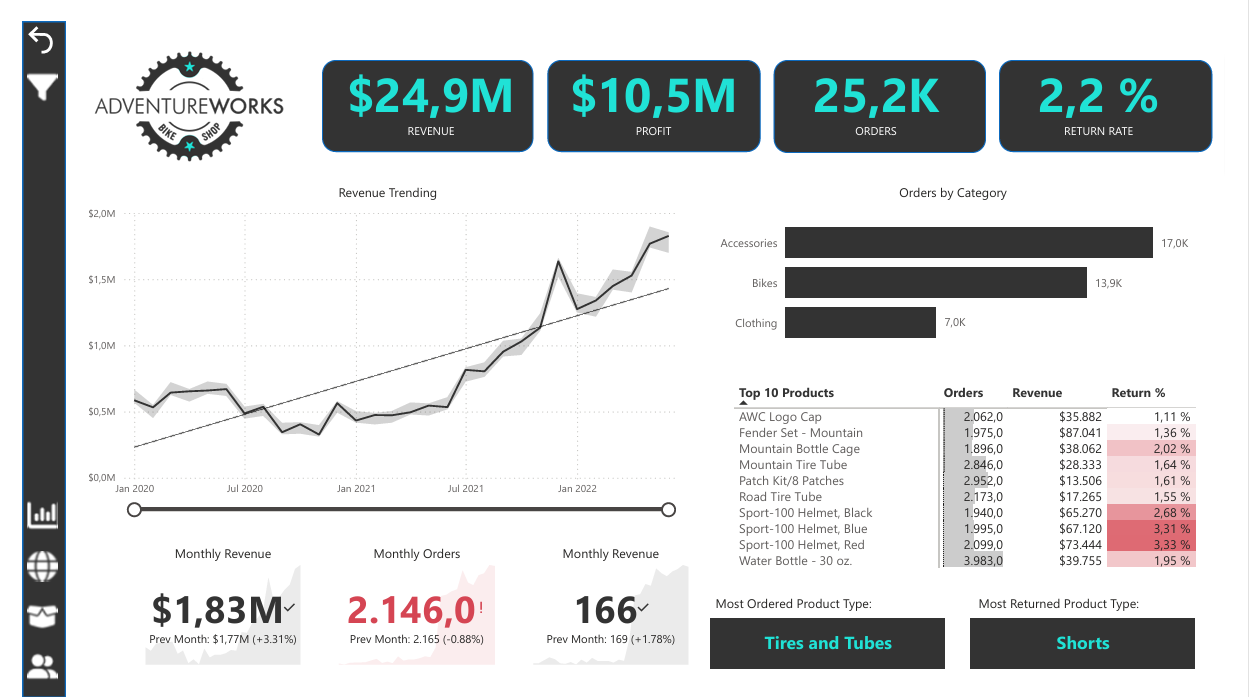

This screenshot's page, from the dashboard's own definition file:
{"tool":"powerbi","page":{"name":"Exec Dashboard","canvas":[1280,720],"ordinal":0},"visuals":[{"type":"card","fields":{"Values":["Measure Table.Total Profit"]},"box":[538.2,19,268,128],"z":0,"group":"g2"},{"type":"image","title":"AW Logo","box":[36.5,24.3,281.7,132.2],"z":0},{"type":"group","id":"g1","title":"KPI Backgrounds","box":[319.1,41,948.3,99.2],"z":0,"group":"g3"},{"type":"shape","title":"Shape","box":[319.1,41,225.4,98],"z":0,"group":"g1"},{"type":"actionButton","box":[1.4,505.7,44.3,40],"z":0,"group":"g4"},{"type":"shape","title":"Left Nav Background","box":[0,0,46.2,720],"z":1000},{"type":"group","id":"g2","title":"KPI Values","box":[301.3,19,978.7,128],"z":1000,"group":"g3"},{"type":"card","fields":{"Values":["Measure Table.Return Rate"]},"box":[1012,19,268,128],"z":1000,"group":"g2"},{"type":"shape","box":[800.1,41,226,99.2],"z":1000,"group":"g1"},{"type":"actionButton","box":[1.4,560,44.3,40],"z":1000,"group":"g4"},{"type":"group","id":"g3","title":"KPIs","box":[301.3,19,978.7,128],"z":2000},{"type":"card","fields":{"Values":["Measure Table.Total Orders"]},"box":[775.1,19,268,128],"z":2000,"group":"g2"},{"type":"shape","box":[1040.6,41,226.8,98],"z":2000,"group":"g1"},{"type":"actionButton","box":[1.4,613.3,44.3,40],"z":2000,"group":"g4"},{"type":"card","fields":{"Values":["Measure Table.Total Revenue"]},"box":[301.3,19,268,128],"z":3000,"group":"g2"},{"type":"shape","box":[558.9,41,226.8,98],"z":3000,"group":"g1"},{"type":"lineChart","title":"Revenue Trending","fields":{"Y":["Measure Table.Total Revenue"],"Category":["Calendar Lookup.Start of Month"]},"box":[64.3,172.9,650,358.6],"z":3000},{"type":"actionButton","box":[1.4,667.1,44.3,40],"z":3000,"group":"g4"},{"type":"kpi","title":"Monthly Revenue","fields":{"Indicator":["Measure Table.Total Revenue"],"TrendLine":["Calendar Lookup.Start of Month"],"Goal":["Measure Table.Previous Month Revenue"]},"box":[125.7,557.1,175.7,132.9],"z":4000},{"type":"kpi","title":"Monthly Orders","fields":{"TrendLine":["Calendar Lookup.Start of Month"],"Indicator":["Measure Table.Total Orders"],"Goal":["Measure Table.Previous Month Orders"]},"box":[332.1,557.1,175.7,132.9],"z":5000},{"type":"kpi","title":"Monthly Revenue","fields":{"TrendLine":["Calendar Lookup.Start of Month"],"Indicator":["Measure Table.Total Returns"],"Goal":["Measure Table.Previous Month Returns"]},"box":[538.6,557.1,175.7,132.9],"z":6000},{"type":"clusteredBarChart","title":"Orders by Category","fields":{"Category":["Product Category Lookup.CategoryName"],"Y":["Measure Table.Total Orders"]},"box":[732.9,172.9,515.7,187.1],"z":7000},{"type":"pivotTable","fields":{"Rows":["Product Lookup.ProductName"],"Values":["Measure Table.Total Orders","Measure Table.Total Revenue","Measure Table.Return Rate"]},"box":[752.5,381.2,513.8,215],"z":8000},{"type":"card","fields":{"Values":["Min(Product Subcategory Lookup.SubcategoryName)"]},"box":[732.5,636.2,250,53.8],"z":9000},{"type":"textbox","box":[732.9,606.5,180.6,40],"z":10000},{"type":"card","fields":{"Values":["Min(Product Subcategory Lookup.SubcategoryName)"]},"box":[1010,636.2,238.8,53.8],"z":11000},{"type":"textbox","box":[1012.9,606.5,183.2,50.3],"z":12000},{"type":"actionButton","box":[0,0,45.8,39.5],"z":13000},{"type":"group","id":"g4","title":"Navigation Buttons","box":[1.4,505.7,44.3,201.4],"z":14000},{"type":"actionButton","box":[1.4,50,62.9,40],"z":15000}]}

Visuals, with their boxes in screenshot pixels (x1, y1, x2, y2), scaled from the page's 1280x720 canvas onto the 1249x697 screenshot:
card - Measure Table.Total Profit: detection(525, 18, 787, 142)
"AW Logo" image: detection(36, 24, 310, 152)
"KPI Backgrounds" group: detection(311, 40, 1237, 136)
"Shape" shape: detection(311, 40, 531, 135)
actionButton: detection(1, 490, 45, 528)
"Left Nav Background" shape: detection(0, 0, 45, 696)
"KPI Values" group: detection(294, 18, 1248, 142)
card - Measure Table.Return Rate: detection(987, 18, 1248, 142)
shape: detection(781, 40, 1001, 136)
actionButton: detection(1, 542, 45, 581)
"KPIs" group: detection(294, 18, 1248, 142)
card - Measure Table.Total Orders: detection(756, 18, 1018, 142)
shape: detection(1015, 40, 1237, 135)
actionButton: detection(1, 594, 45, 632)
card - Measure Table.Total Revenue: detection(294, 18, 556, 142)
shape: detection(545, 40, 767, 135)
"Revenue Trending" lineChart: detection(63, 167, 697, 515)
actionButton: detection(1, 646, 45, 685)
"Monthly Revenue" kpi: detection(123, 539, 294, 668)
"Monthly Orders" kpi: detection(324, 539, 496, 668)
"Monthly Revenue" kpi: detection(526, 539, 697, 668)
"Orders by Category" clusteredBarChart: detection(715, 167, 1218, 348)
pivotTable - Product Lookup.ProductName x Measure Table.Total Orders: detection(734, 369, 1236, 577)
card - Min(Product Subcategory Lookup.SubcategoryName): detection(715, 616, 959, 668)
textbox: detection(715, 587, 891, 626)
card - Min(Product Subcategory Lookup.SubcategoryName): detection(986, 616, 1219, 668)
textbox: detection(988, 587, 1167, 636)
actionButton: detection(0, 0, 45, 38)
"Navigation Buttons" group: detection(1, 490, 45, 685)
actionButton: detection(1, 48, 63, 87)
